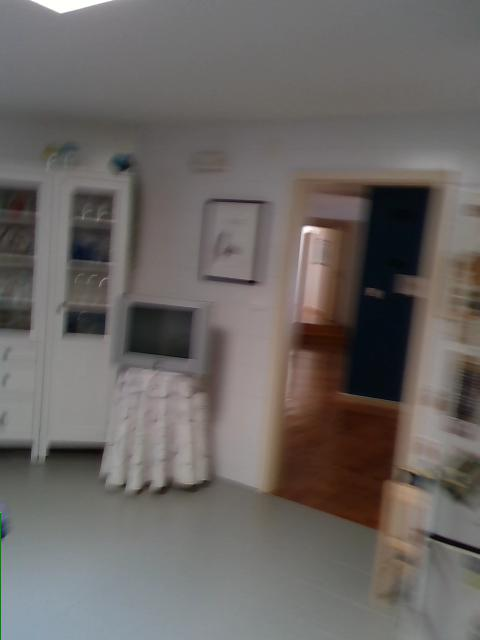open_door: (257, 164, 457, 551)
